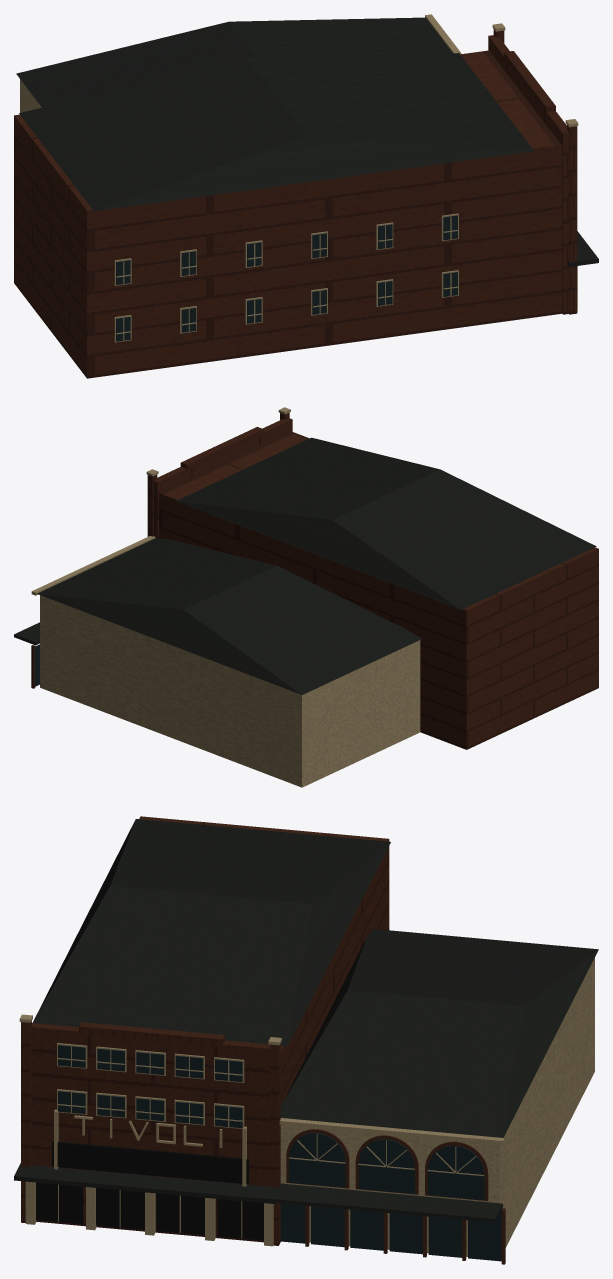
The picture shows the model from 3 angles, top to bottom: view 1: azimuth 30°, elevation 25°; view 2: azimuth 150°, elevation 25°; view 3: azimuth 270°, elevation 25°; orthographic projection. The views are drawn at different scales.
Visible parts, largest first — view 1: tivoli-0, tivoli-1, tivoli-3, tivoli-2; view 2: tivoli-1, tivoli-0, tivoli-2; view 3: tivoli-1, tivoli-0, tivoli-2, tivoli-3, tivoli-4.
Boxes of the visible parts, box(x1,y1,x2,y2) form: tivoli-0: box(14, 29, 577, 378); tivoli-1: box(16, 17, 598, 266); tivoli-3: box(116, 215, 457, 341); tivoli-2: box(20, 14, 578, 342); tivoli-1: box(14, 437, 596, 694); tivoli-0: box(31, 412, 598, 749); tivoli-2: box(31, 407, 420, 787); tivoli-1: box(14, 819, 598, 1222); tivoli-0: box(21, 816, 505, 1264); tivoli-2: box(19, 958, 594, 1256); tivoli-3: box(58, 1045, 501, 1261); tivoli-4: box(36, 1141, 263, 1240).
Bounding box in the file's own units: 49.74 × 17.95 × 43.7.
Materials: 5 (5 with a texture image).
